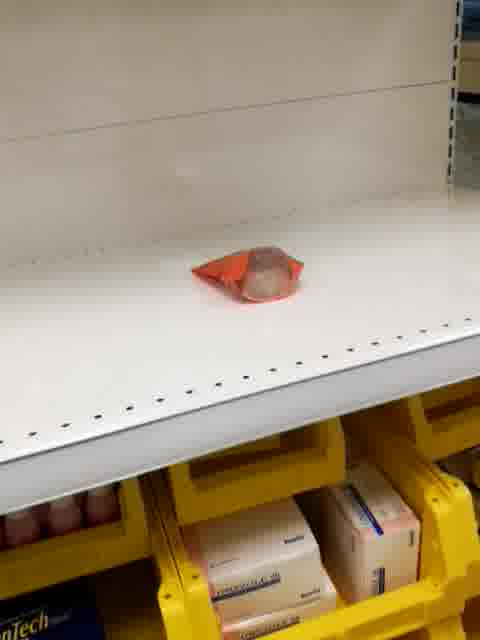whitechia: (189, 242, 305, 305)
